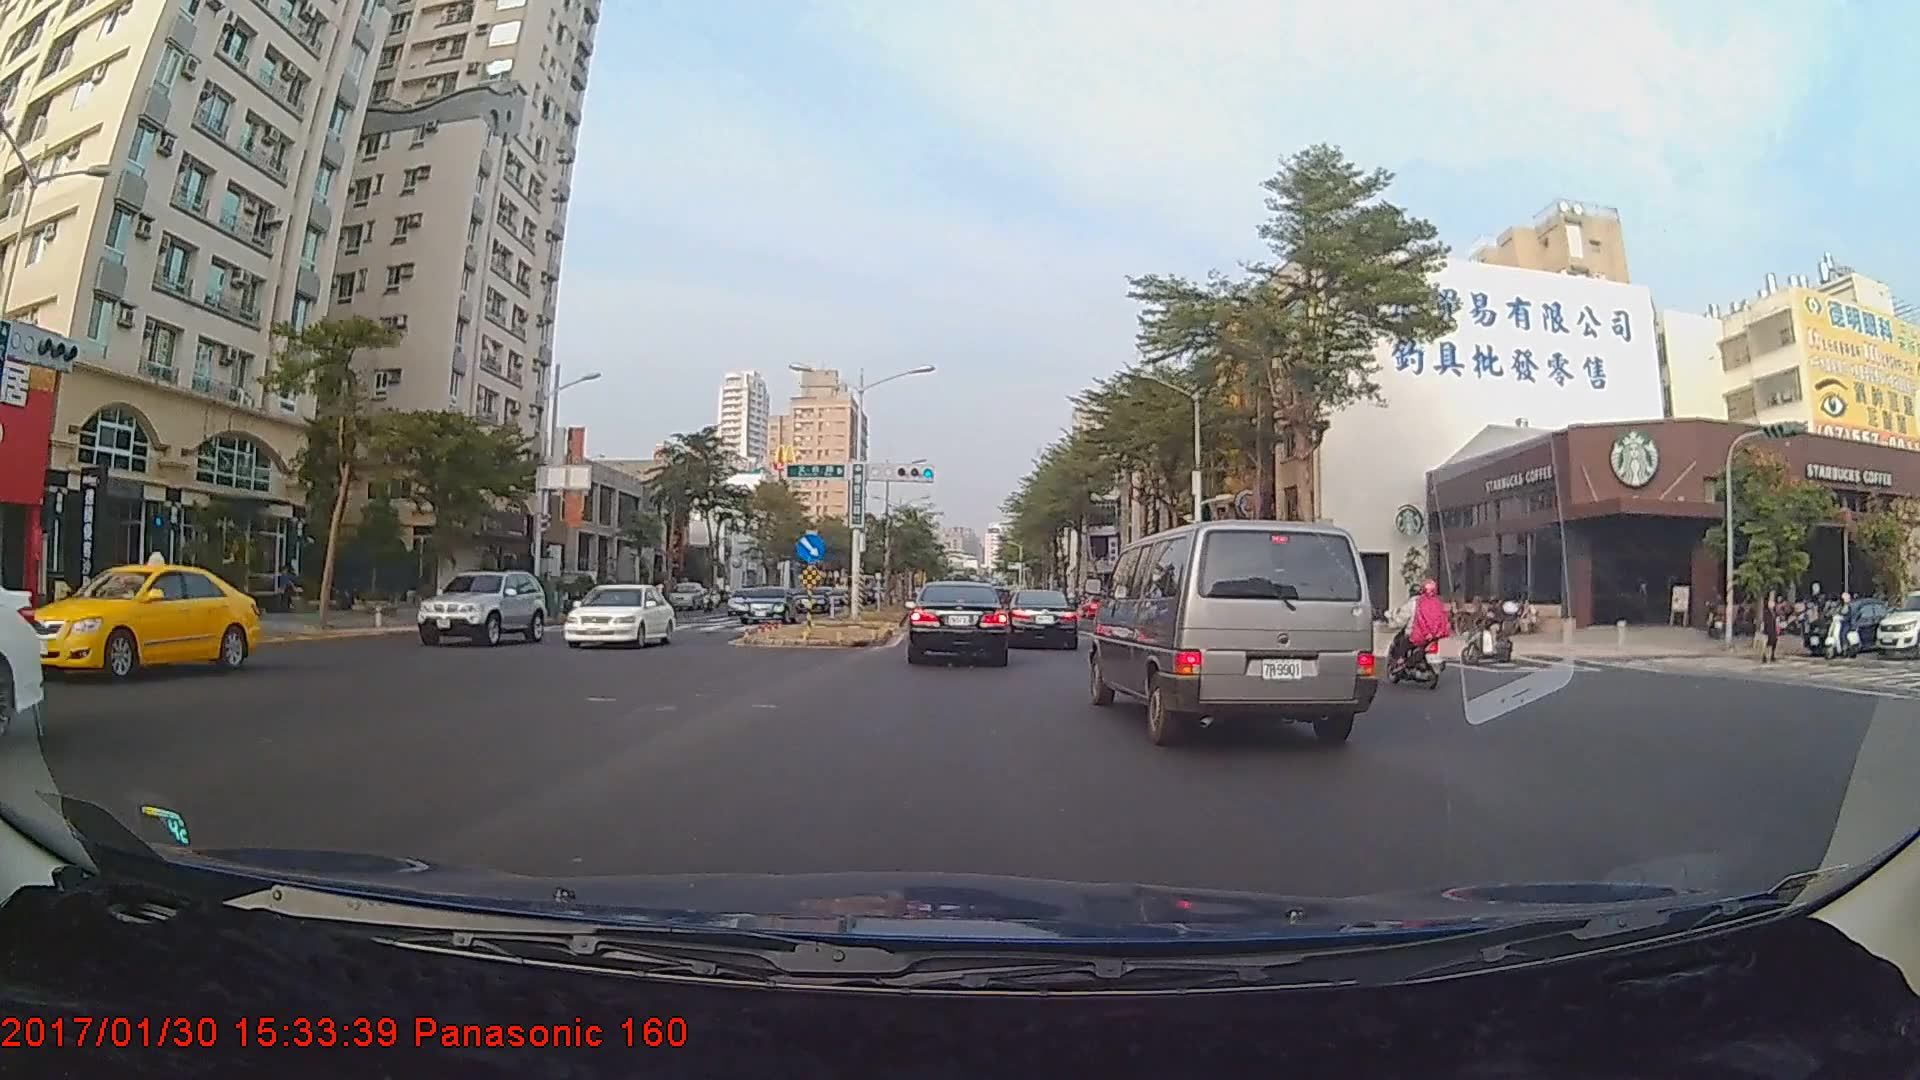pedestrian: (1759, 588, 1784, 667)
rider: (1383, 571, 1458, 681), (1821, 588, 1865, 661)
vehicle: (1099, 514, 1372, 748), (20, 565, 260, 679), (408, 566, 540, 646), (906, 580, 1010, 666), (559, 580, 678, 647), (1007, 587, 1079, 649), (734, 583, 798, 624)
